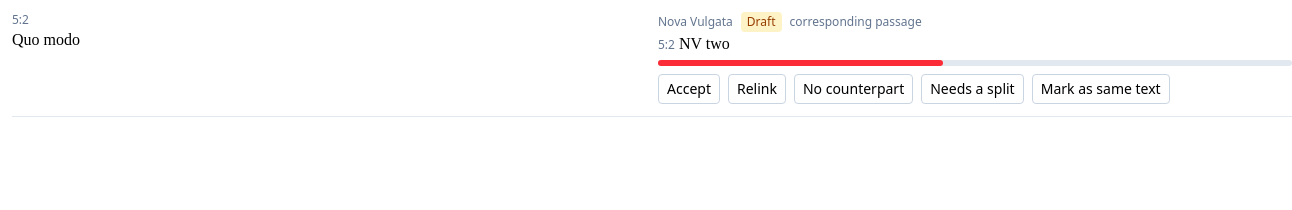
Test case: ReviewLink › relinkOffersOnlyTheStretchsUnits
Click the button "Relink" at {"x": 757, "y": 89}, box [728,74,786,104]
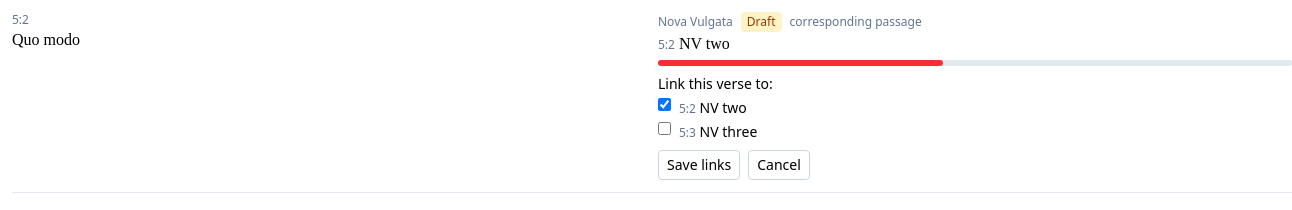
Check: the checkbox labelled "5:2 NV two" is checked, box [658,98,671,111]
Click the checkbox labelled "5:3 NV three" at {"x": 664, "y": 128}, box [658,122,671,135]
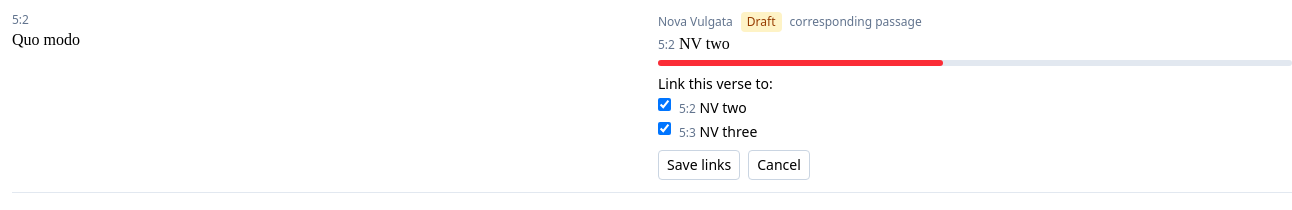
Click the button "Save links" at {"x": 699, "y": 165}, box [658,150,740,180]
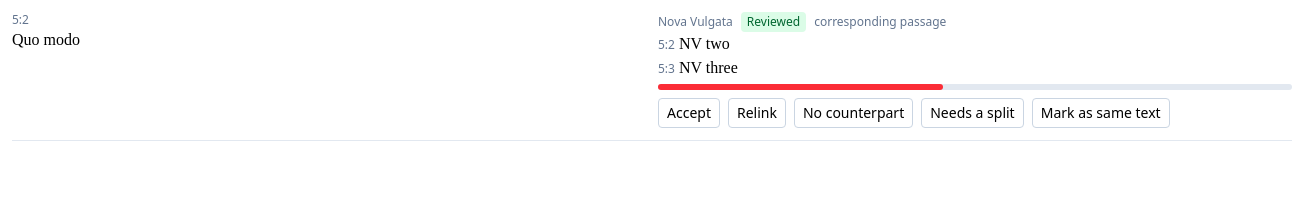
Check: the text "Reviewed" is shown, box [741,12,806,32]
